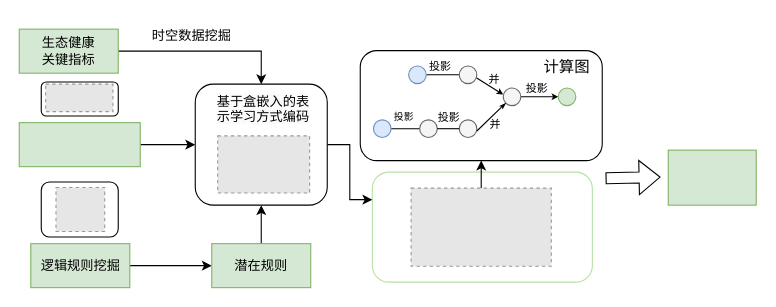
This 776x307 diagram has some shape labels left out. Grey dashed boxes stand in for pictures. Each missing label, with the centre of its shape:
"异常溯源 预警评估" goes at [711,177].
"生态环境问题输入" goes at [79,144].
